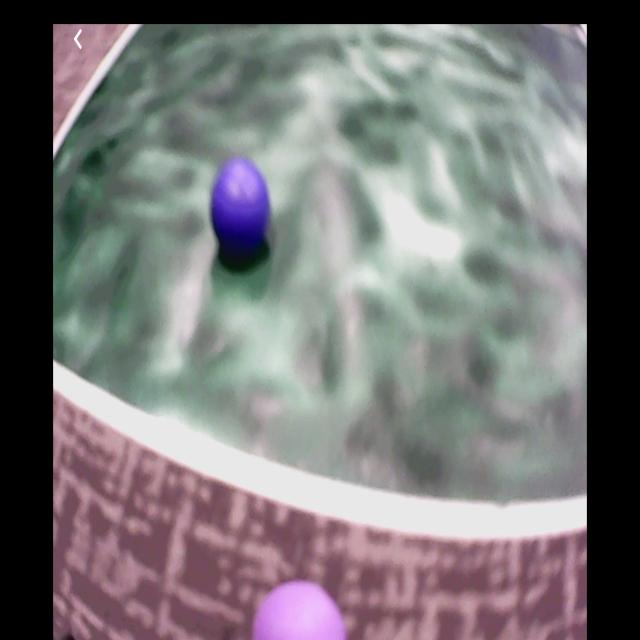ball: (212, 160, 270, 255), (251, 582, 345, 640)
